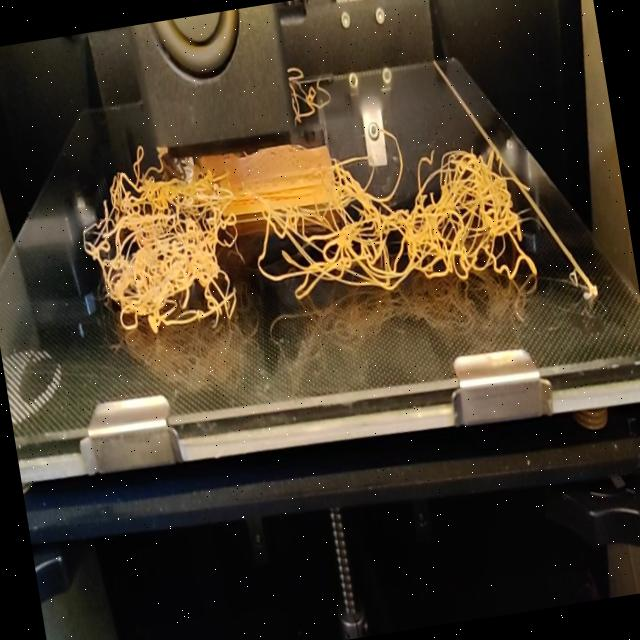spaghetti: (68, 92, 550, 365), (284, 62, 334, 124)
